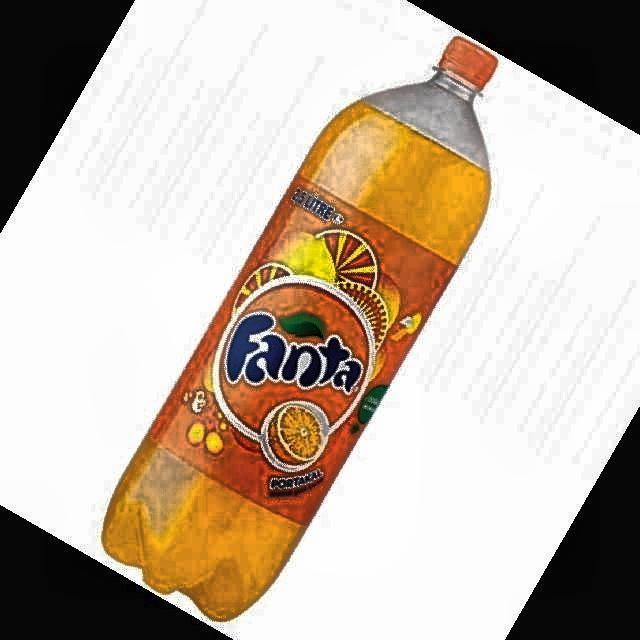plastic: (102, 38, 498, 619)
